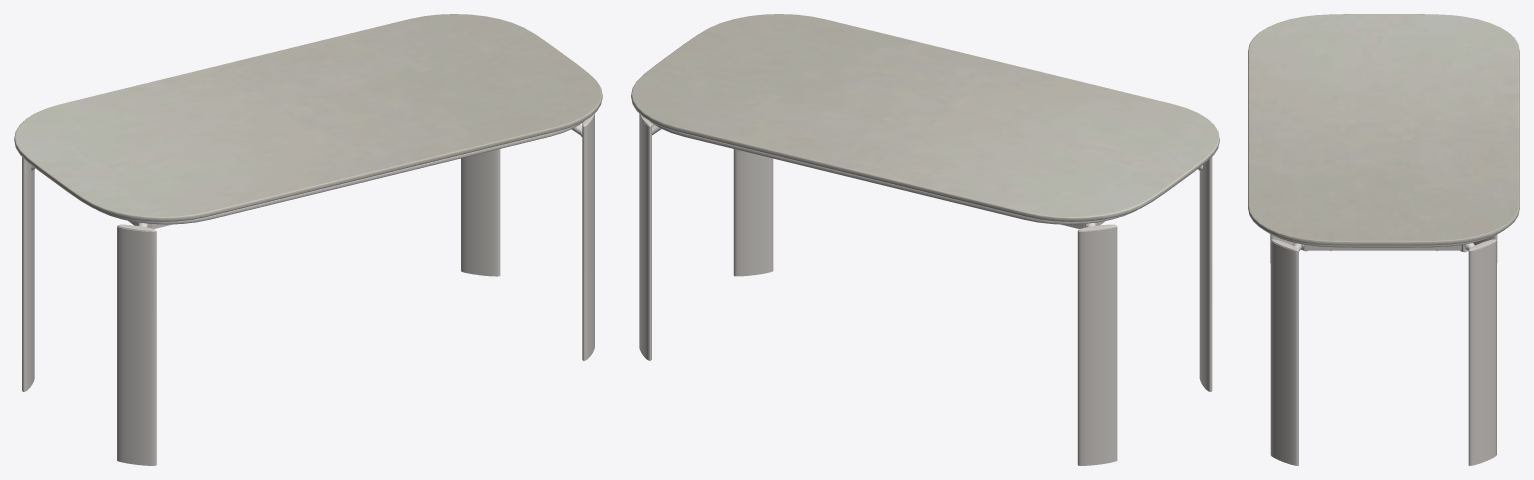
File: BGID02453.glb
3 renders of one model, left to right at view 1: azimuth 30°, elevation 25°; view 2: azimuth 150°, elevation 25°; view 3: azimuth 270°, elevation 25°, orthographic. The views are drawn at different scales.
Visible parts, largest first — view 1: BP_BGID02453; view 2: BP_BGID02453; view 3: BP_BGID02453.
Part boxes in pixels (x1=…): BP_BGID02453: x1=14, y1=14, x2=602, y2=465; BP_BGID02453: x1=631, y1=14, x2=1219, y2=465; BP_BGID02453: x1=1248, y1=14, x2=1519, y2=465.
Bounding box in the file's own units: 1.59 × 0.7514 × 0.7994.
Materials: 3 (1 with a texture image).
